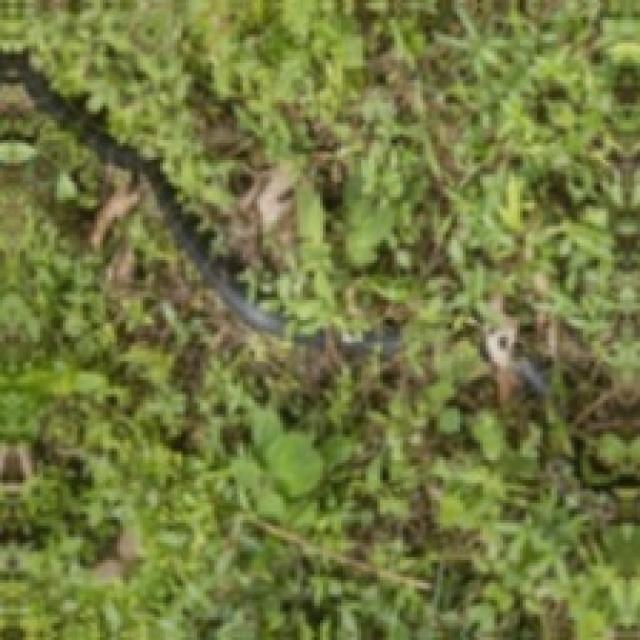king cobra: (0, 52, 284, 334)
